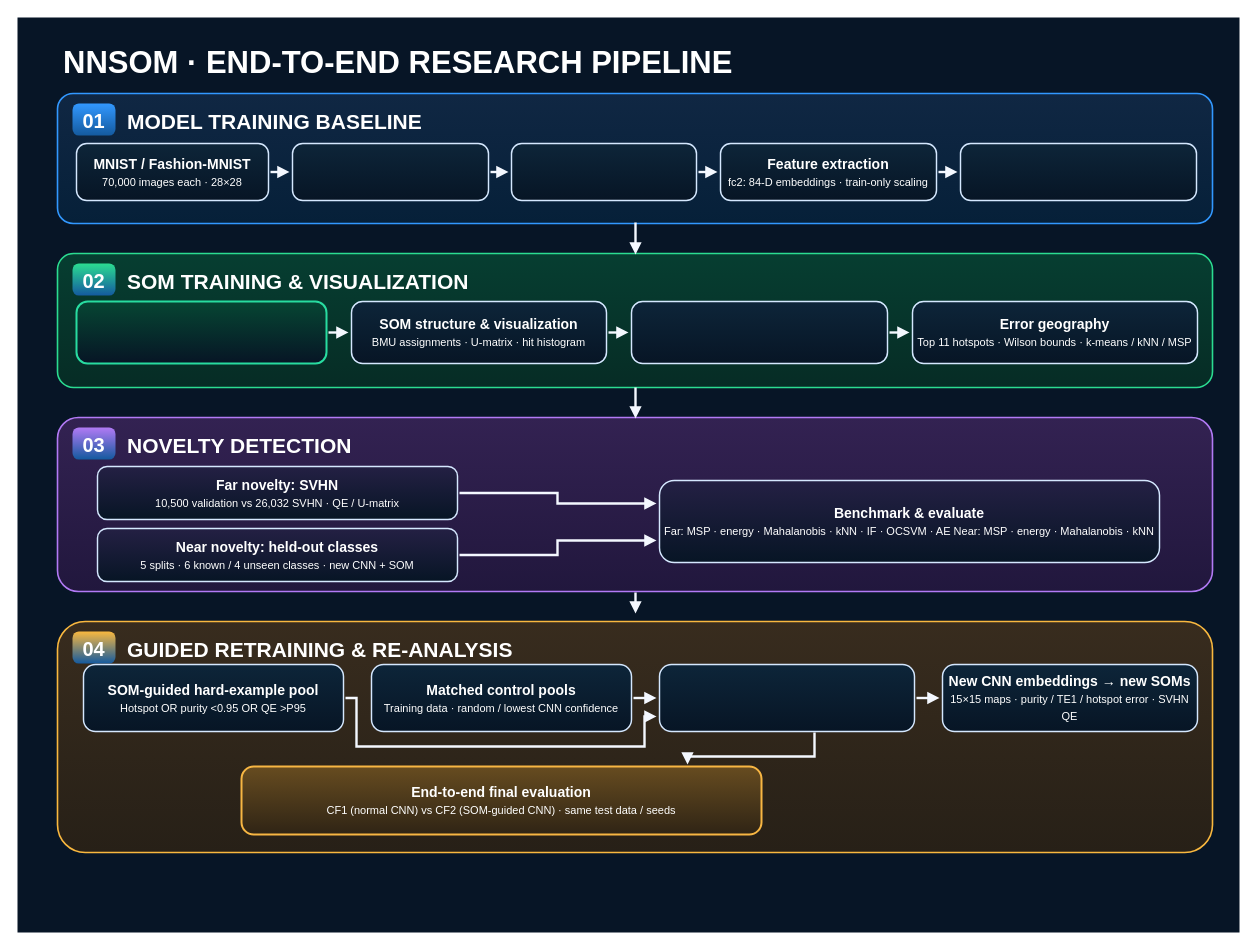
Image size: 1256x949. Some labels were removed from this diagram. The shapes that lost their labels are listed below. From the top down, each one's centre as x and y in pixels, then its label:
At [390,171]: "Stratified split 49,000 train / 10,500 val / 10,500 test".
At [603,171]: "LeNet-5 baseline Adam · best validation checkpoint".
At [1078,171]: "Baseline evaluation Test accuracy: 99.18% / 90.90%".
At [201,332]: "NNSOM training 15×15 hex grid · 250 epochs · radius 11→1".
At [759,332]: "Cluster analysis Class regions · purity · overlap · shuffle control".
At [786,697]: "Retraining strategies Augmentation (3 copies) · curriculum · normal".
